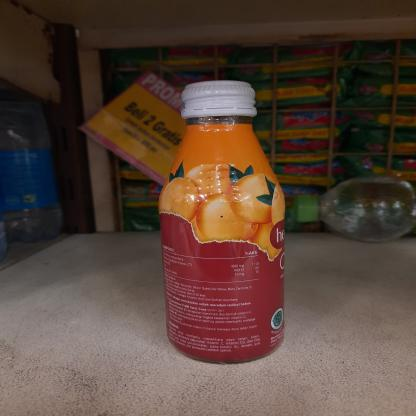bottle: (156, 78, 296, 373)
